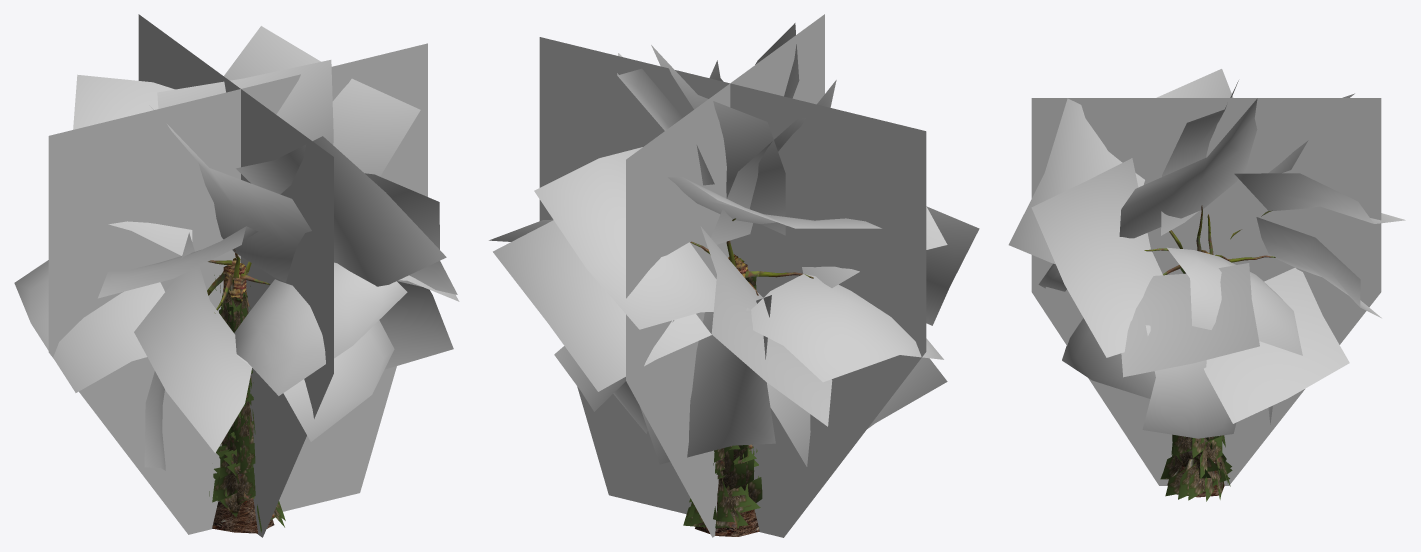
Rendered from Windmill1.fbx.
The picture shows the model from 3 angles, left to right: view 1: azimuth 30°, elevation 25°; view 2: azimuth 150°, elevation 25°; view 3: azimuth 270°, elevation 25°; orthographic projection. The views are drawn at different scales.
Visible parts, largest first — view 1: LOD0, Billboard; view 2: Billboard, LOD0; view 3: LOD0, Billboard.
Part boxes in pixels (x1=…): LOD0: x1=14, y1=26, x2=459, y2=533; Billboard: x1=48, y1=14, x2=427, y2=537; Billboard: x1=539, y1=14, x2=926, y2=537; LOD0: x1=489, y1=23, x2=979, y2=536; LOD0: x1=1008, y1=69, x2=1405, y2=501; Billboard: x1=1031, y1=98, x2=1381, y2=485.
Size of what is drawn, in the model's own units: 229 by 254 by 223.
